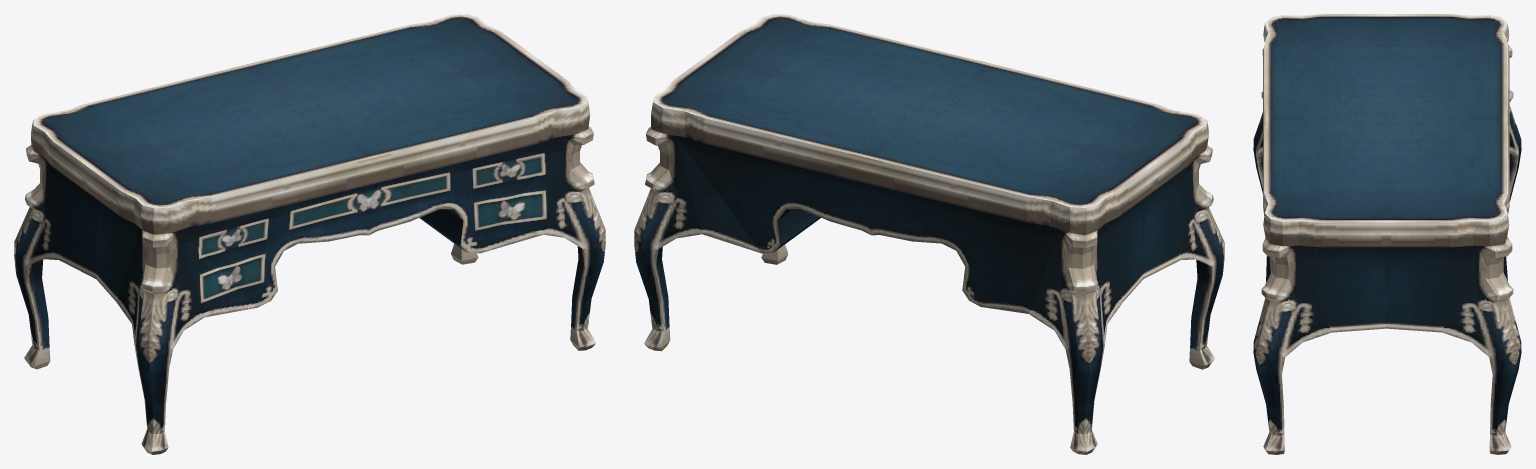
The model's file is furni_0201107_03.FBX.
The picture shows the model from 3 angles, left to right: view 1: azimuth 30°, elevation 25°; view 2: azimuth 150°, elevation 25°; view 3: azimuth 270°, elevation 25°; orthographic projection. The views are drawn at different scales.
Visible parts, largest first — view 1: furni_0201107_03; view 2: furni_0201107_03; view 3: furni_0201107_03.
Part boxes in pixels (bbox=[...]): furni_0201107_03: bbox=[14, 14, 605, 454]; furni_0201107_03: bbox=[634, 14, 1224, 454]; furni_0201107_03: bbox=[1253, 14, 1521, 454].
Bounding box in the file's own units: 162 × 81.45 × 84.69.
1 material, 1 textured.
